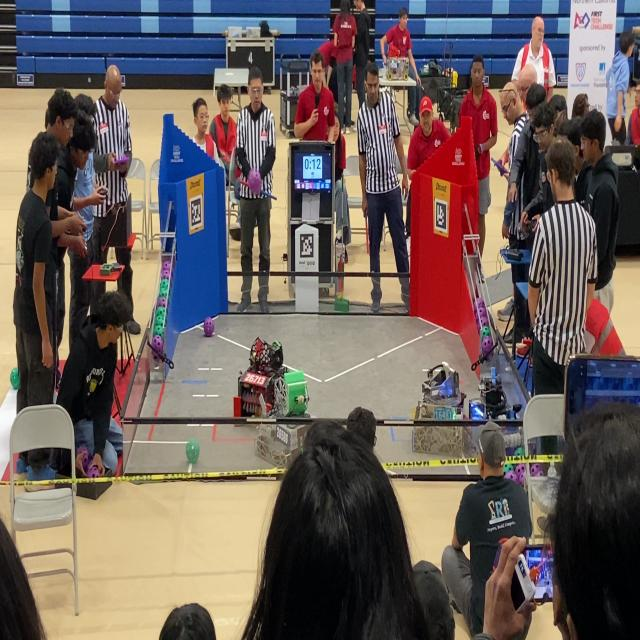artifact_green: (186, 438, 199, 463), (10, 367, 19, 389), (159, 279, 168, 296), (155, 307, 165, 322), (159, 275, 165, 297), (153, 323, 163, 336), (514, 446, 525, 457), (481, 326, 491, 338), (476, 298, 486, 309), (504, 463, 514, 474), (154, 318, 164, 328), (159, 285, 168, 296), (154, 319, 164, 328), (157, 297, 166, 307), (159, 286, 168, 296), (154, 320, 164, 328), (156, 307, 166, 315), (161, 279, 169, 286)
artifact_purple: (247, 170, 261, 194), (77, 447, 90, 470), (151, 336, 163, 358), (481, 337, 493, 356), (204, 317, 214, 337), (530, 463, 543, 477), (474, 301, 484, 319), (474, 306, 481, 331), (87, 466, 100, 478), (505, 470, 517, 482), (479, 316, 489, 330), (479, 309, 488, 324), (481, 325, 491, 338), (472, 300, 480, 316), (515, 463, 525, 475), (477, 298, 486, 310), (161, 269, 171, 279), (157, 297, 166, 307), (163, 261, 171, 272), (517, 474, 525, 485), (473, 306, 478, 322), (477, 320, 481, 334)
